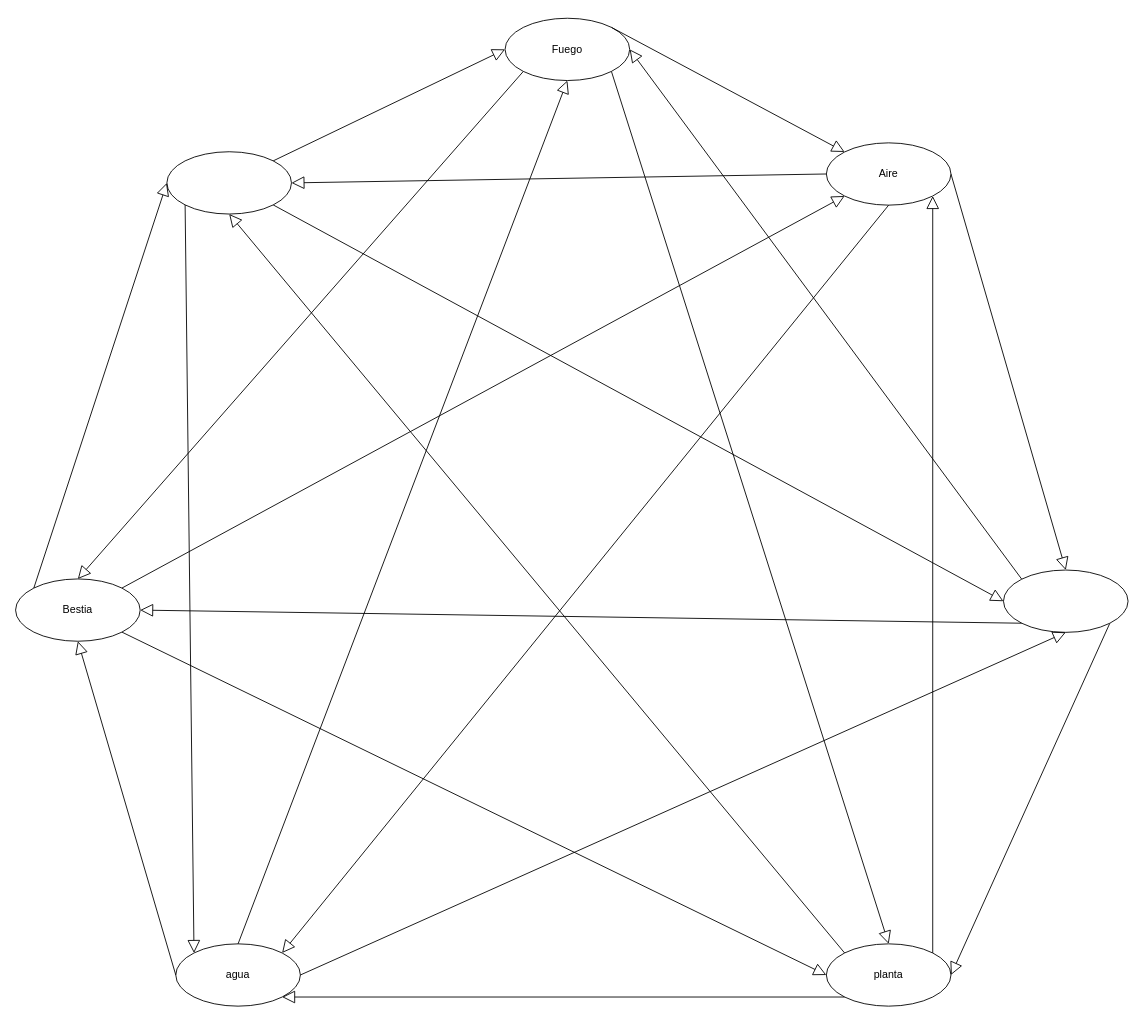
Image size: 1144x1025. Some labels were removed from this diagram. The centre of each missing label's shape, as x and y in pixels:
Electrico: the point at 1065,600
Tierra: the point at 228,182
